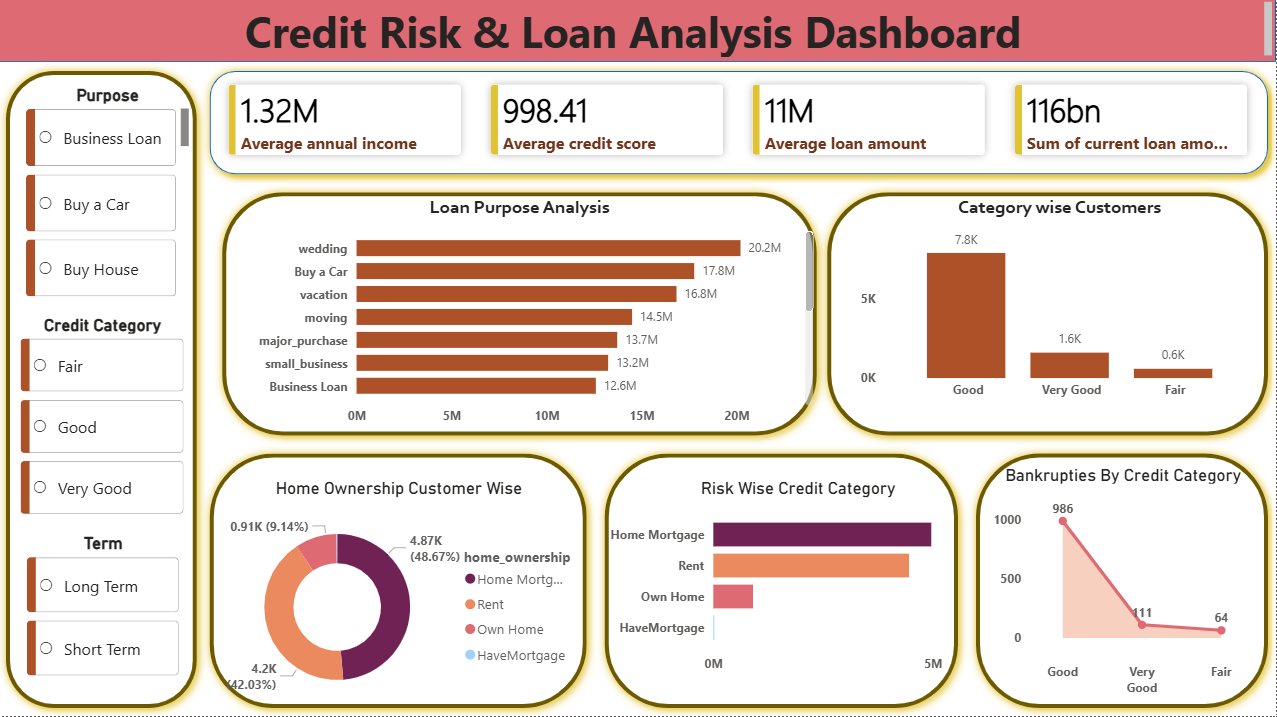

The dashboard page shown, as its layout file describes it:
{"tool":"powerbi","page":{"name":"Page 1","canvas":[1280,720],"ordinal":0},"visuals":[{"type":"shape","box":[203.8,65,1076.2,121.2],"z":0},{"type":"cardVisual","fields":{"Data":["Sheet1.Average annual score","Sheet1.Average credit score","Sheet1.Average loan amount","Sum(Sheet1.current_loan_amount)"]},"box":[203.8,60,1076.2,126.2],"z":1000},{"type":"shape","box":[216.2,186.2,612.5,261.2],"z":2000},{"type":"clusteredBarChart","title":"Loan Purpose Analysis","fields":{"Category":["Sheet1.purpose"],"Y":["Avg(Sheet1.current_loan_amount)"]},"box":[223.8,198.8,597.5,238.8],"z":3000},{"type":"shape","box":[821.2,186.2,458.8,261.2],"z":4000},{"type":"columnChart","title":"Category wise Customers","fields":{"Category":["Sheet1.credit_category"],"Y":["CountNonNull(Sheet1.customer_id)"]},"box":[858.8,198.8,407.5,212.5],"z":5000},{"type":"shape","box":[203.8,447.5,395,272.5],"z":6000},{"type":"donutChart","title":"Home Ownership Customer Wise","fields":{"Category":["Sheet1.home_ownership"],"Y":["CountNonNull(Sheet1.customer_id)"]},"box":[208.8,481.2,386.2,238.8],"z":7000},{"type":"shape","box":[598.8,447.5,371.2,272.5],"z":8000},{"type":"clusteredBarChart","title":"Risk Wise Credit Category","fields":{"Category":["Sheet1.home_ownership"],"Y":["Sum(Sheet1.credit_score)"]},"box":[607.5,481.2,387.5,203.8],"z":9000},{"type":"shape","box":[970,447.5,310,272.5],"z":10000},{"type":"stackedAreaChart","title":"Bankrupties By Credit Category","fields":{"Category":["Sheet1.credit_category"],"Y":["Sum(Sheet1.bankruptcies)"]},"box":[986.2,467.5,280,238.8],"z":11000},{"type":"shape","box":[0,65,208.8,655],"z":12000},{"type":"advancedSlicerVisual","title":"Purpose","fields":{"Values":["Sheet1.purpose"]},"box":[23.8,87.5,173.8,217.5],"z":13000},{"type":"advancedSlicerVisual","title":"Credit Category","fields":{"Values":["Sheet1.credit_category"]},"box":[18.8,317.5,173.8,206.2],"z":14000},{"type":"advancedSlicerVisual","title":"Term","fields":{"Values":["Sheet1.term"]},"box":[25,536.2,162.5,148.8],"z":16000},{"type":"shape","box":[0,0,1280,65],"z":16001},{"type":"textbox","box":[0,0,1280,65],"z":16002}]}

Visuals, with their boxes in screenshot pixels (x1, y1, x2, y2), scaled from the page's 1280x720 canvas onto the 1277x717 screenshot:
shape: (x1=203, y1=65, x2=1276, y2=185)
cardVisual - Sheet1.Average annual score x Sheet1.Average credit score: (x1=203, y1=60, x2=1276, y2=185)
shape: (x1=216, y1=185, x2=827, y2=446)
"Loan Purpose Analysis" clusteredBarChart: (x1=223, y1=198, x2=819, y2=436)
shape: (x1=819, y1=185, x2=1276, y2=446)
"Category wise Customers" columnChart: (x1=857, y1=198, x2=1263, y2=410)
shape: (x1=203, y1=446, x2=597, y2=716)
"Home Ownership Customer Wise" donutChart: (x1=208, y1=479, x2=594, y2=716)
shape: (x1=597, y1=446, x2=968, y2=716)
"Risk Wise Credit Category" clusteredBarChart: (x1=606, y1=479, x2=993, y2=682)
shape: (x1=968, y1=446, x2=1276, y2=716)
"Bankrupties By Credit Category" stackedAreaChart: (x1=984, y1=466, x2=1263, y2=703)
shape: (x1=0, y1=65, x2=208, y2=716)
"Purpose" advancedSlicerVisual: (x1=24, y1=87, x2=197, y2=304)
"Credit Category" advancedSlicerVisual: (x1=19, y1=316, x2=192, y2=522)
"Term" advancedSlicerVisual: (x1=25, y1=534, x2=187, y2=682)
shape: (x1=0, y1=0, x2=1276, y2=65)
textbox: (x1=0, y1=0, x2=1276, y2=65)
